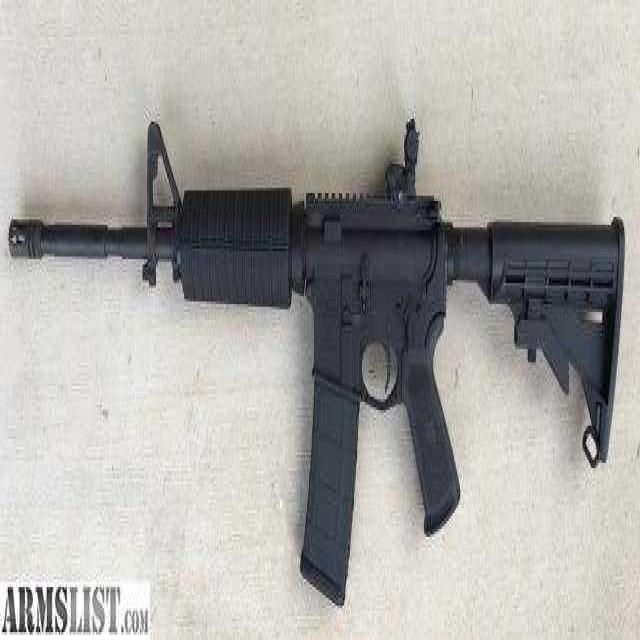heavyweapon: (8, 94, 633, 578)
